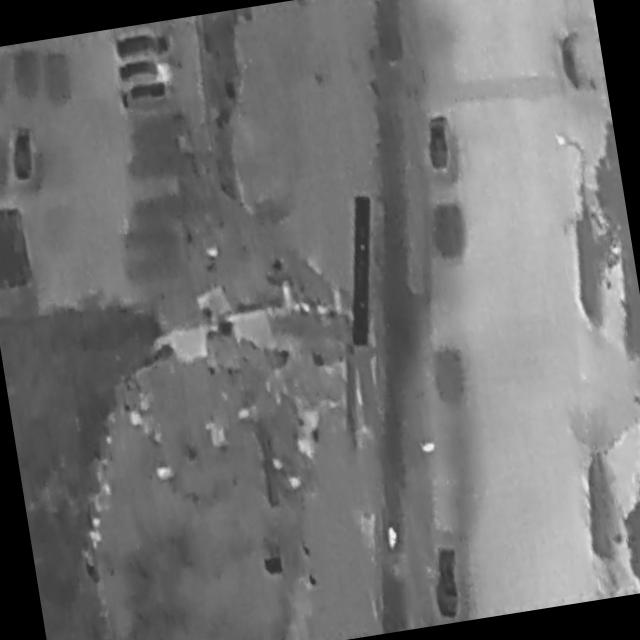person: (387, 529, 400, 551)
